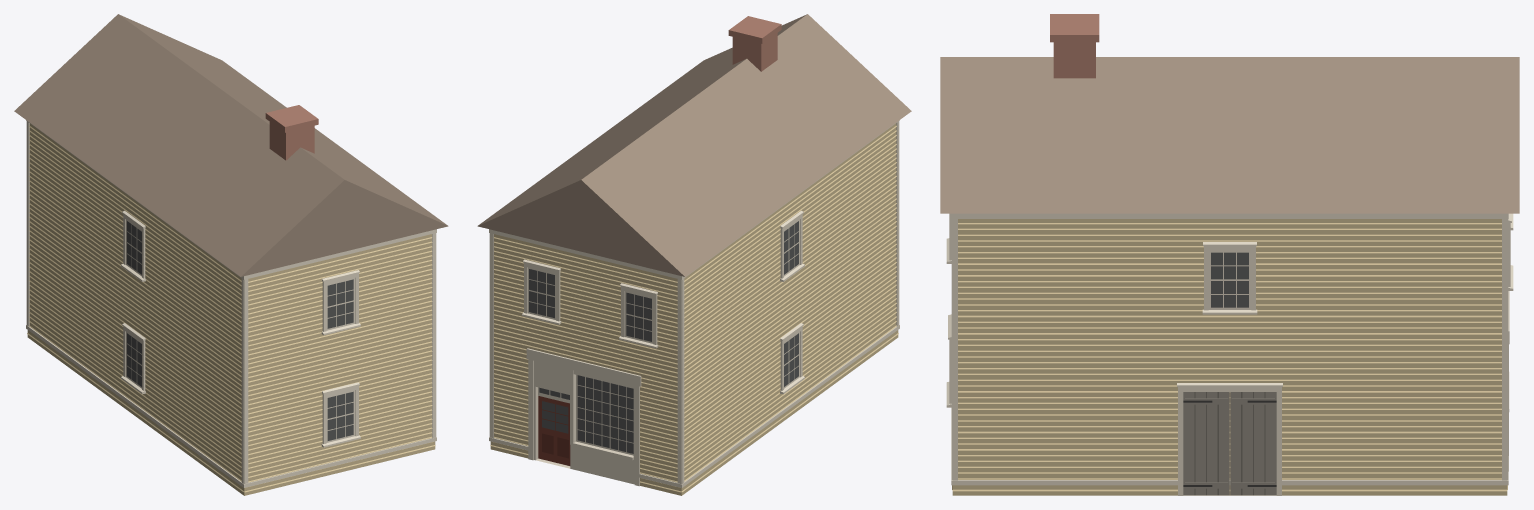
File: recon_1835_gifford_c3_017__inferred_1835.glb
3 views of the same model, side by side, from view 1: azimuth 30°, elevation 25°; view 2: azimuth 150°, elevation 25°; view 3: azimuth 270°, elevation 25° (orthographic). The views are drawn at different scales.
Visible parts, largest first — view 1: recon_1835_gifford_c3_017__inferred_1835; view 2: recon_1835_gifford_c3_017__inferred_1835; view 3: recon_1835_gifford_c3_017__inferred_1835.
Part boxes in pixels (x1,y1,x2,y2): recon_1835_gifford_c3_017__inferred_1835: (14, 14, 448, 495); recon_1835_gifford_c3_017__inferred_1835: (477, 14, 911, 495); recon_1835_gifford_c3_017__inferred_1835: (940, 14, 1519, 495).
Bounding box in the file's own units: 6.1 × 9.01 × 11.5.
